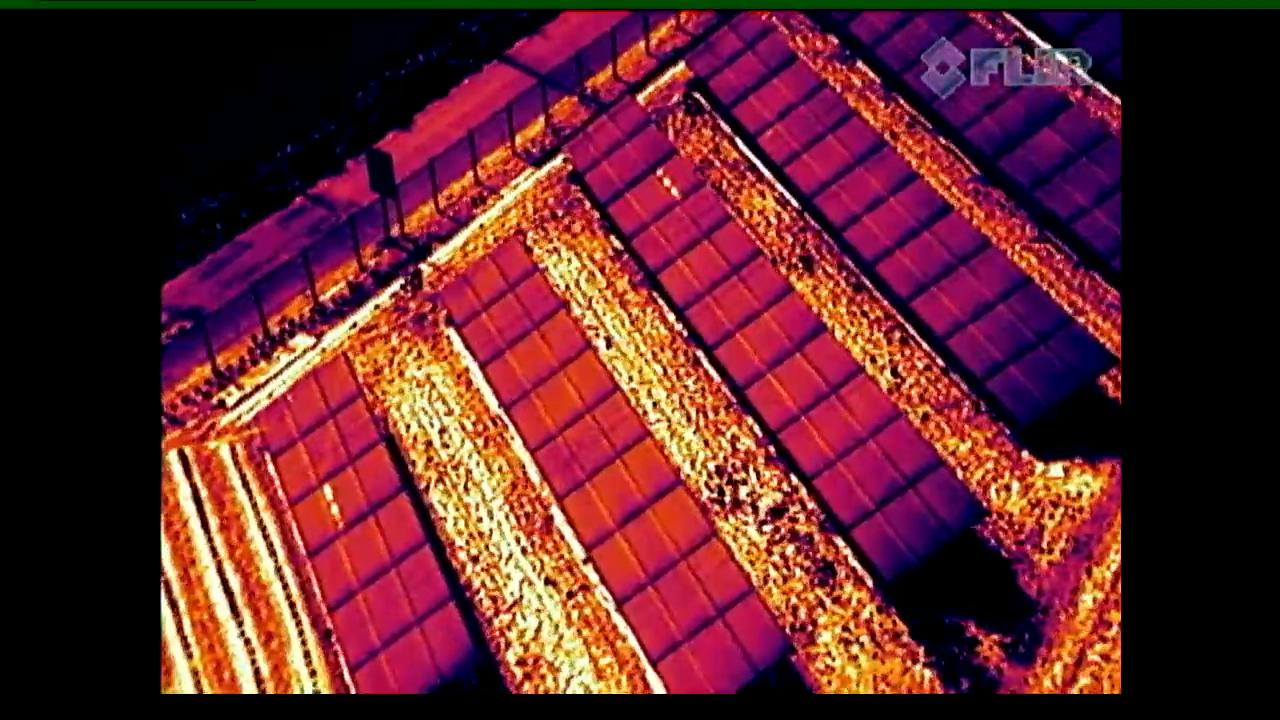hotspot: (291, 442, 406, 549), (600, 156, 707, 236)
